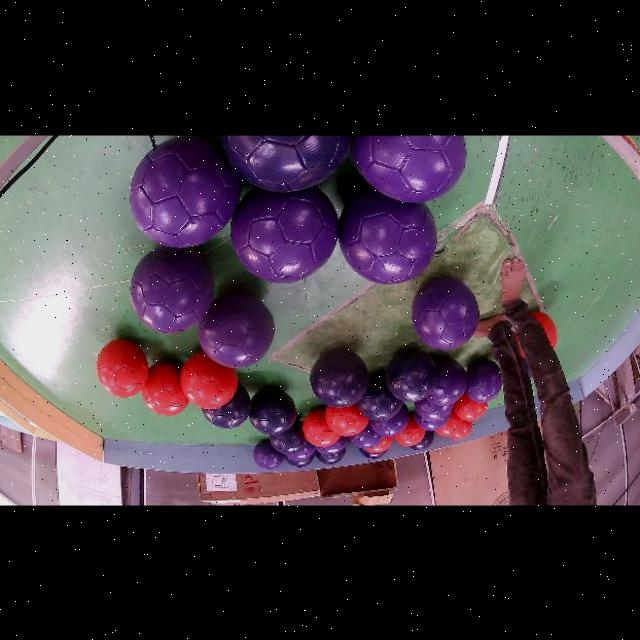B: (223, 136, 351, 193), (310, 350, 369, 409), (385, 350, 439, 404), (356, 373, 404, 422), (250, 388, 296, 436), (202, 384, 251, 429), (270, 420, 306, 455), (410, 432, 435, 451), (315, 450, 346, 465), (284, 457, 314, 469), (360, 449, 386, 460)
P: (130, 137, 241, 248), (230, 188, 338, 284), (340, 189, 437, 285), (350, 136, 466, 203), (130, 248, 215, 334), (198, 293, 275, 369), (412, 278, 478, 351), (427, 357, 467, 406), (466, 360, 502, 404), (369, 405, 409, 437), (414, 398, 454, 422), (253, 441, 284, 470), (350, 424, 383, 450), (414, 413, 451, 432), (316, 437, 347, 456), (287, 442, 315, 463)
R: (180, 353, 238, 410), (96, 341, 149, 398), (141, 362, 189, 416), (302, 411, 340, 449), (325, 406, 369, 437), (530, 312, 557, 350), (394, 415, 426, 447), (454, 393, 487, 422), (436, 413, 466, 437), (449, 422, 472, 441), (365, 439, 394, 454)
